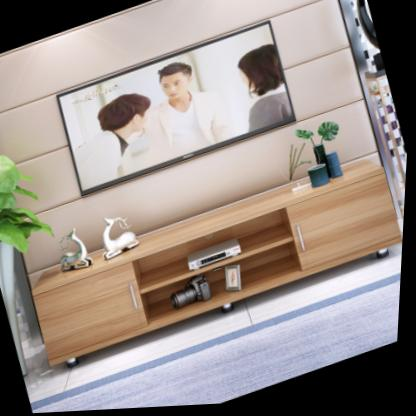Carpet: (34, 276, 404, 414)
TV stand: (22, 148, 409, 377)
